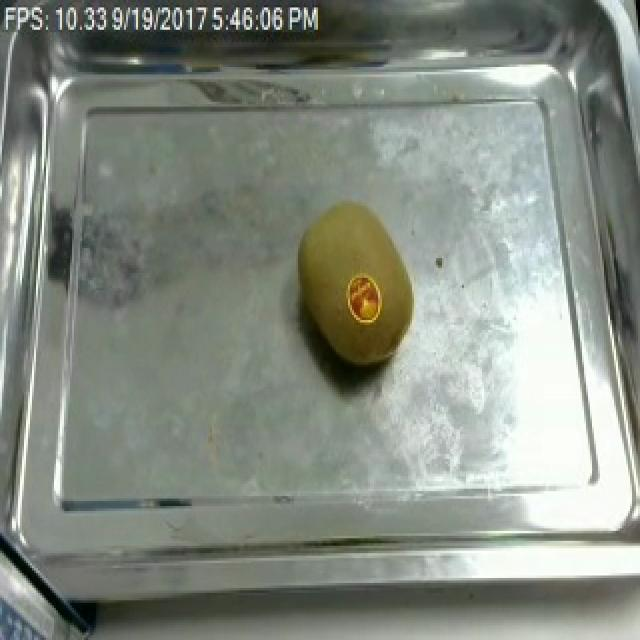Fruit: (288, 193, 428, 374)
